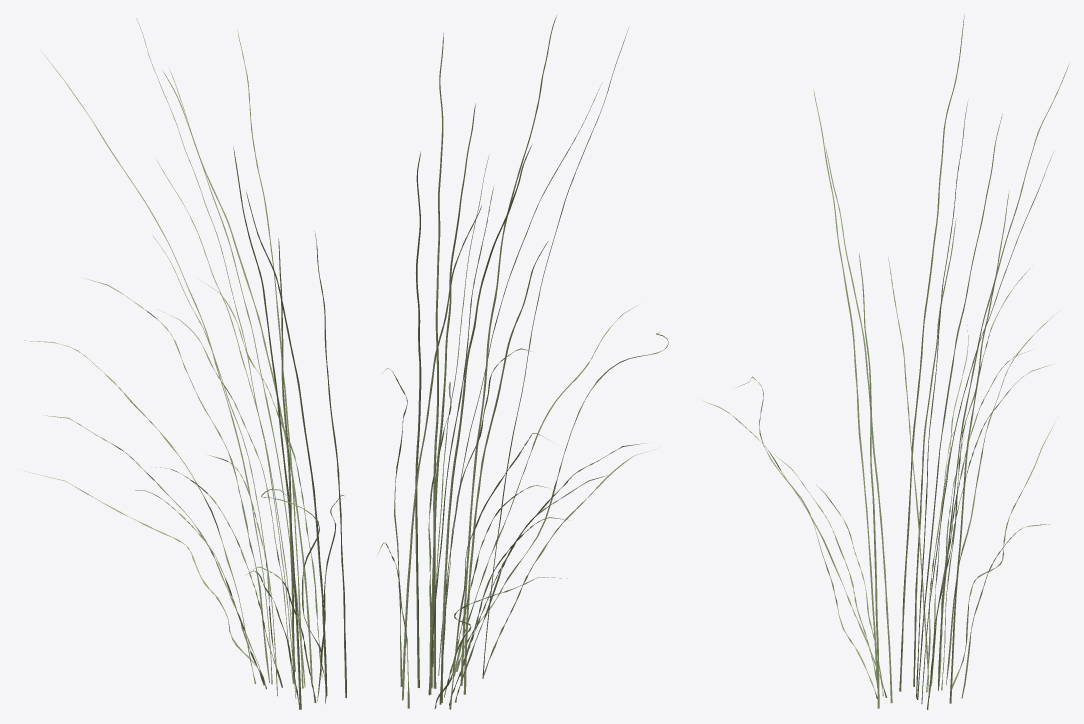
File: grass_seedhead_lod0.glb
3 renders of one model, left to right at view 1: azimuth 30°, elevation 25°; view 2: azimuth 150°, elevation 25°; view 3: azimuth 270°, elevation 25°, orthographic. The views are drawn at different scales.
Parts seen in each view (by area): view 1: bq_Grass_Panicum-virgatum_E_spring; view 2: bq_Grass_Panicum-virgatum_E_spring; view 3: bq_Grass_Panicum-virgatum_E_spring.
Part boxes in pixels (x1=…): bq_Grass_Panicum-virgatum_E_spring: x1=24, y1=18, x2=346, y2=709; bq_Grass_Panicum-virgatum_E_spring: x1=377, y1=15, x2=668, y2=709; bq_Grass_Panicum-virgatum_E_spring: x1=703, y1=14, x2=1069, y2=709.
Size of the model in its own units: 0.6522 by 1.66 by 0.9023.
1 material, 1 textured.
